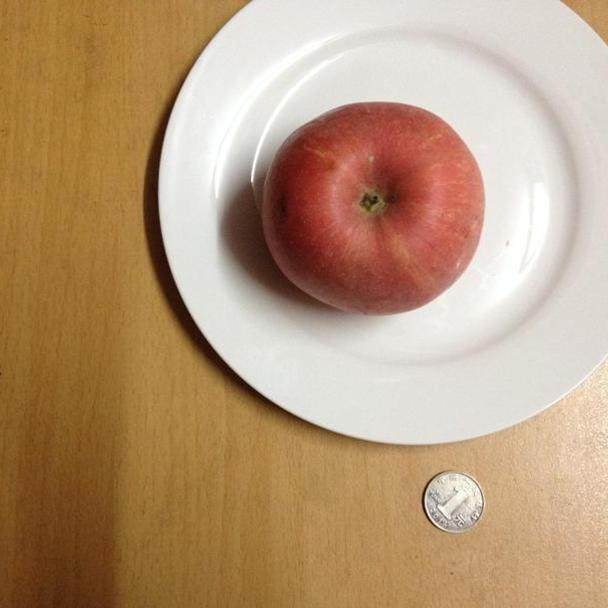apple: (260, 101, 485, 316)
